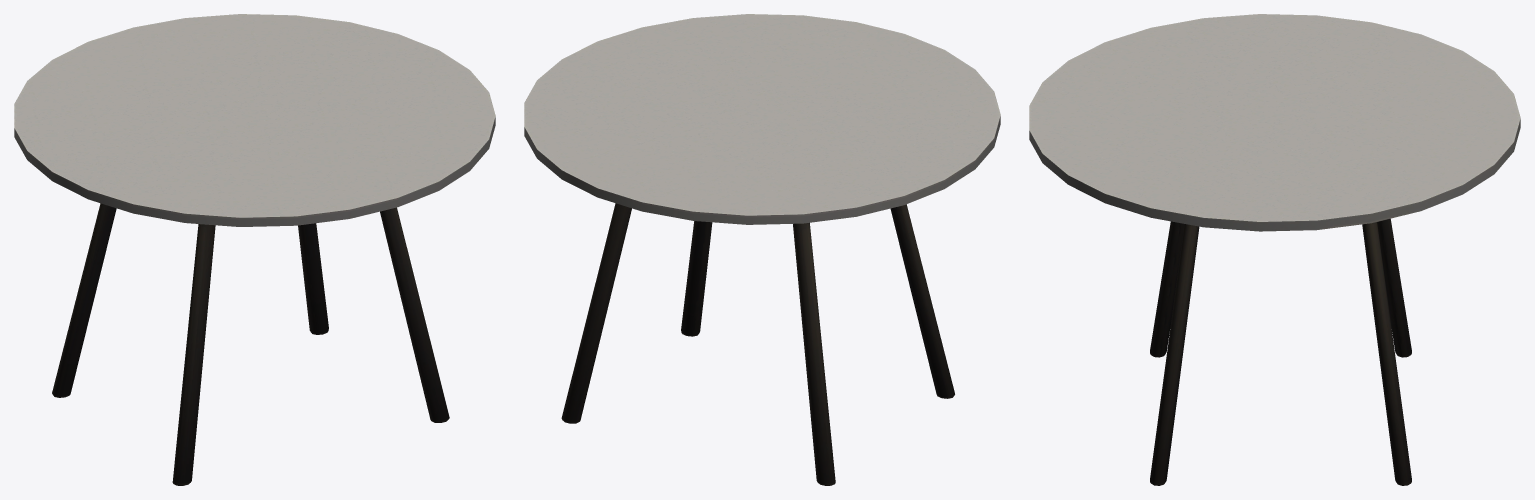
File: SM_Round_Table.FBX
3 views of the same model, side by side, from view 1: azimuth 30°, elevation 25°; view 2: azimuth 150°, elevation 25°; view 3: azimuth 270°, elevation 25° (orthographic). The views are drawn at different scales.
Visible parts, largest first — view 1: SM_Round_Table; view 2: SM_Round_Table; view 3: SM_Round_Table.
Part boxes in pixels (x1,y1,x2,y2): SM_Round_Table: (14,14,495,485); SM_Round_Table: (524,14,1000,485); SM_Round_Table: (1029,14,1520,485).
Size of the model in its own units: 168 by 168 by 113.
